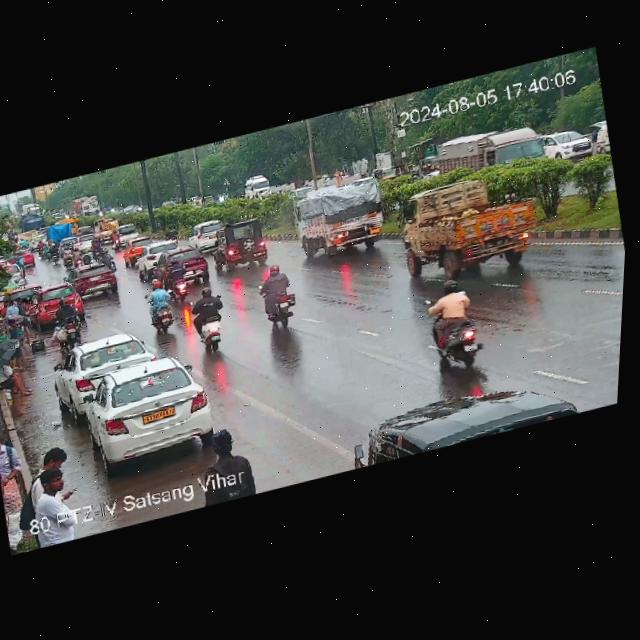car: (349, 368, 586, 468), (69, 352, 216, 473), (52, 326, 158, 399), (23, 273, 89, 331), (214, 217, 275, 278), (151, 242, 213, 291), (66, 259, 125, 303), (134, 241, 169, 278), (190, 217, 225, 253), (2, 277, 41, 300), (123, 236, 155, 264), (0, 259, 27, 284), (114, 220, 144, 242), (13, 245, 36, 268)
motorcycle: (422, 277, 485, 372), (257, 263, 299, 330), (190, 285, 227, 359), (145, 275, 187, 337), (3, 202, 52, 246), (46, 294, 85, 348), (40, 211, 80, 251), (166, 257, 192, 303), (59, 242, 77, 270), (100, 247, 117, 273), (165, 221, 181, 243), (34, 237, 48, 259), (71, 245, 85, 267), (48, 243, 60, 265), (92, 239, 104, 261), (80, 249, 94, 266), (43, 241, 53, 263)
person: (203, 419, 270, 504), (0, 421, 38, 557), (14, 441, 80, 519), (32, 470, 76, 548), (0, 354, 36, 409), (4, 315, 31, 370), (13, 292, 36, 345), (0, 298, 18, 320)
truck: (385, 159, 545, 291), (292, 175, 394, 266), (431, 119, 541, 182)
